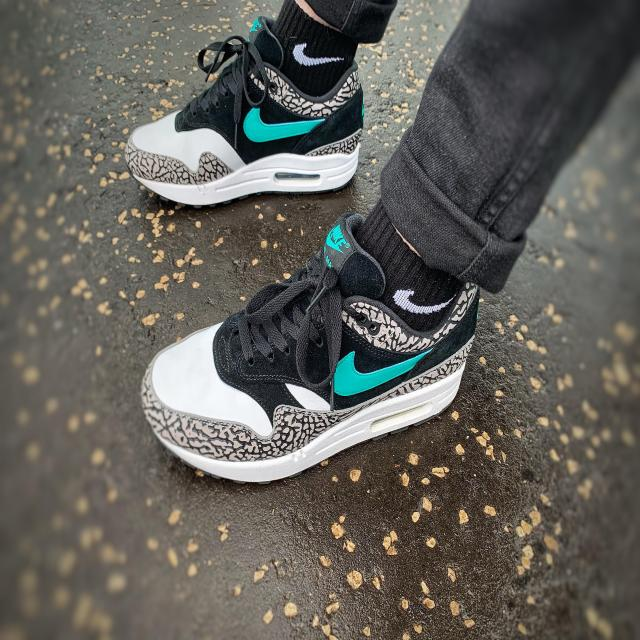shoes: (132, 208, 509, 498), (118, 12, 378, 210)
